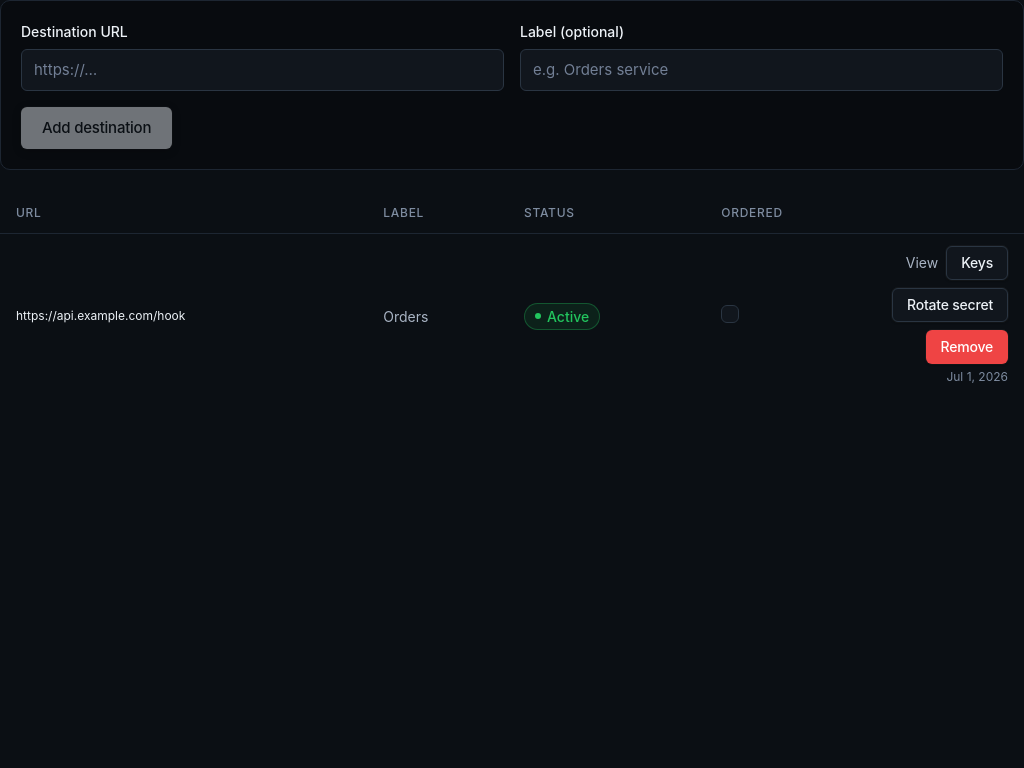
Test: ReplayDestinationsManager › rotates a destination's secret and reveals the new one-time secret
Click the button "Rotate secret" at (950,305), box [892,288,1008,322]
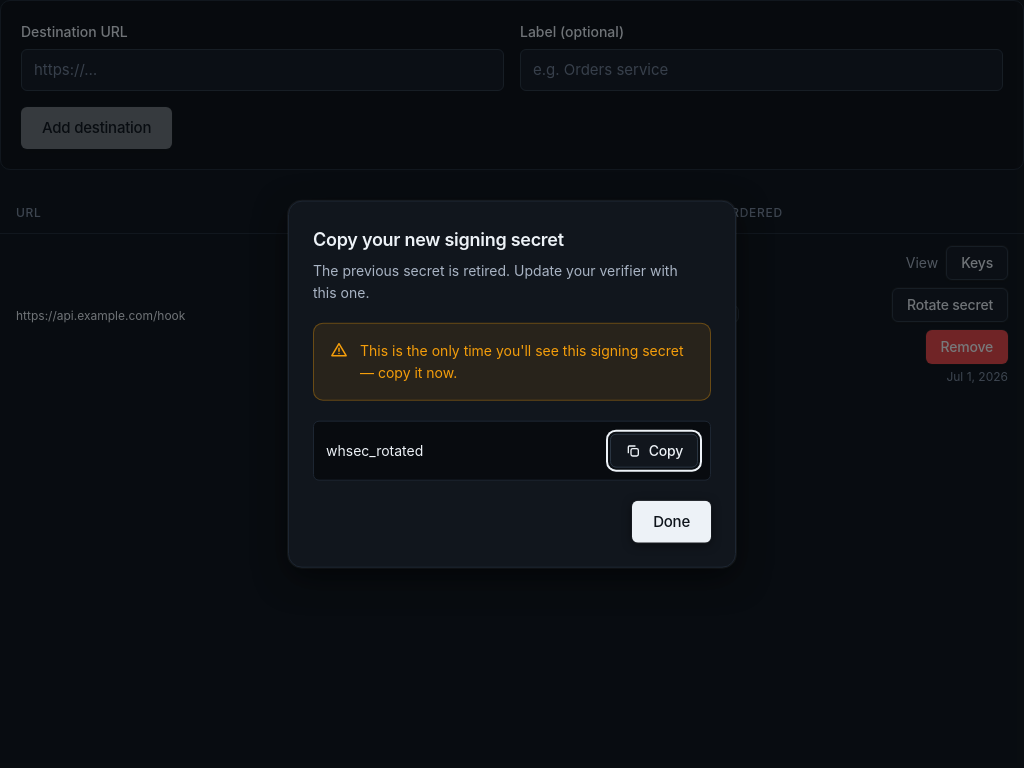
expect the text "whsec_rotated" is shown: met, box [326,442,423,458]
